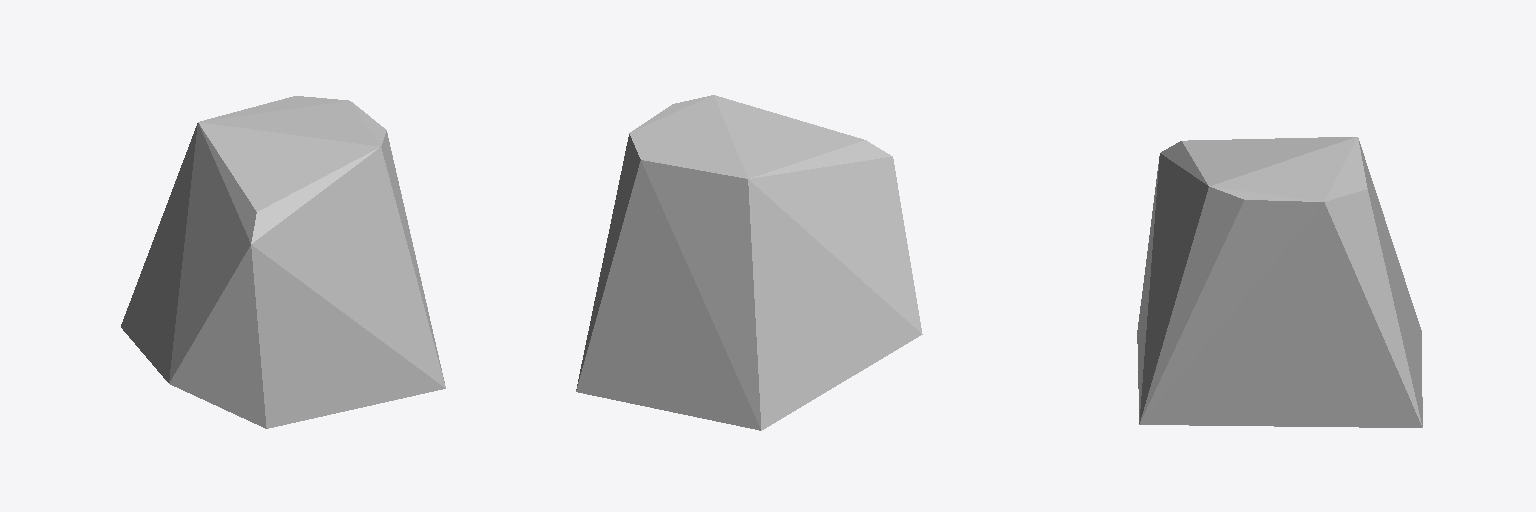
Rendered from raw_model_collision_31.obj.
The picture shows the model from 3 angles: view 1: azimuth 30°, elevation 25°; view 2: azimuth 150°, elevation 25°; view 3: azimuth 270°, elevation 25°; orthographic projection.
Bounding box in the file's own units: 0.09 × 0.0806 × 0.092.